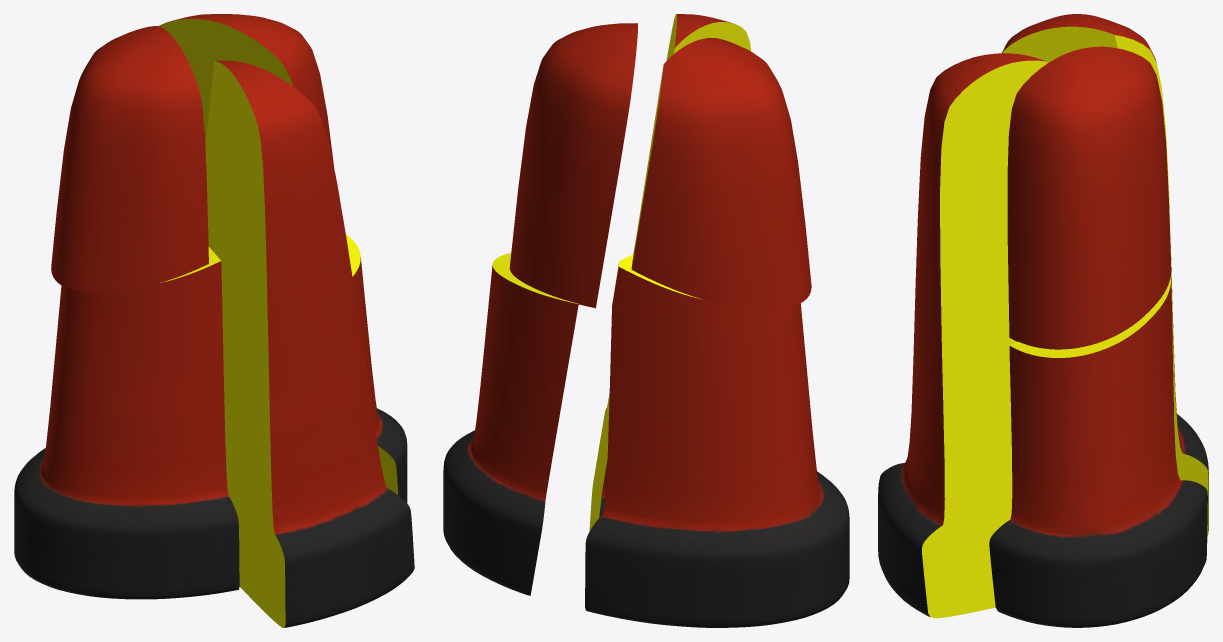
File: alarma_rota.obj
The picture shows the model from 3 angles, left to right: view 1: azimuth 30°, elevation 25°; view 2: azimuth 150°, elevation 25°; view 3: azimuth 270°, elevation 25°; orthographic projection. The views are drawn at different scales.
Parts seen in each view (by area): view 1: pCylinder2 polySurface8, pCylinder2 polySurface10, pCylinder2 polySurface9, pCylinder2 polySurface11, polySurface7 pCylinder2; view 2: pCylinder2 polySurface10, pCylinder2 polySurface9, polySurface7 pCylinder2, pCylinder2 polySurface11, pCylinder2 polySurface8; view 3: pCylinder2 polySurface8, polySurface7 pCylinder2, pCylinder2 polySurface11, pCylinder2 polySurface9, pCylinder2 polySurface10.
Boxes of the visible parts, bbox=[...] form: pCylinder2 polySurface8: bbox=[205, 60, 414, 627]; pCylinder2 polySurface10: bbox=[14, 247, 239, 599]; pCylinder2 polySurface9: bbox=[51, 26, 208, 291]; pCylinder2 polySurface11: bbox=[158, 14, 334, 167]; polySurface7 pCylinder2: bbox=[346, 234, 407, 503]; pCylinder2 polySurface10: bbox=[585, 254, 849, 627]; pCylinder2 polySurface9: bbox=[631, 38, 811, 308]; polySurface7 pCylinder2: bbox=[443, 253, 578, 595]; pCylinder2 polySurface11: bbox=[509, 23, 637, 308]; pCylinder2 polySurface8: bbox=[589, 14, 751, 530]; pCylinder2 polySurface8: bbox=[878, 53, 1047, 618]; polySurface7 pCylinder2: bbox=[989, 279, 1207, 627]; pCylinder2 polySurface11: bbox=[1007, 46, 1171, 349]; pCylinder2 polySurface9: bbox=[1002, 14, 1169, 210]; pCylinder2 polySurface10: bbox=[1169, 218, 1208, 535].
Size of the model in its own units: 0.353 by 0.4852 by 0.2821.
Materials: 2 (1 with a texture image).
